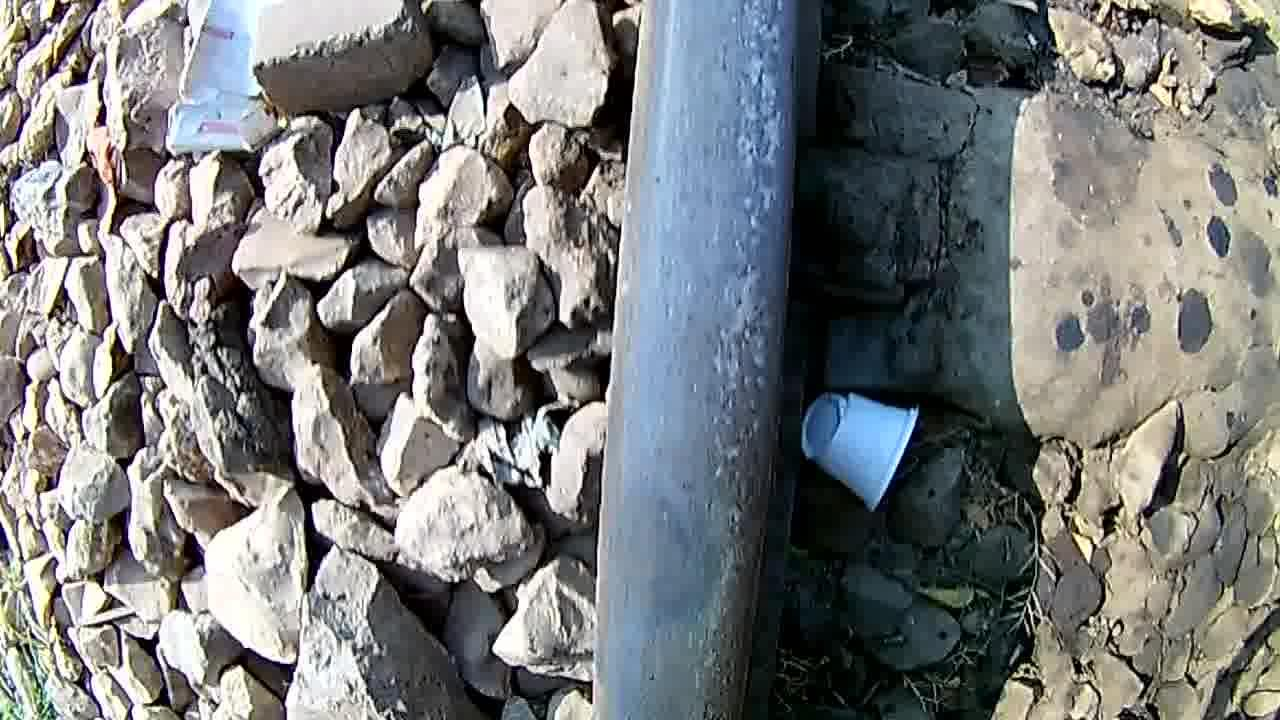bolt_missing: (586, 465, 770, 720)
